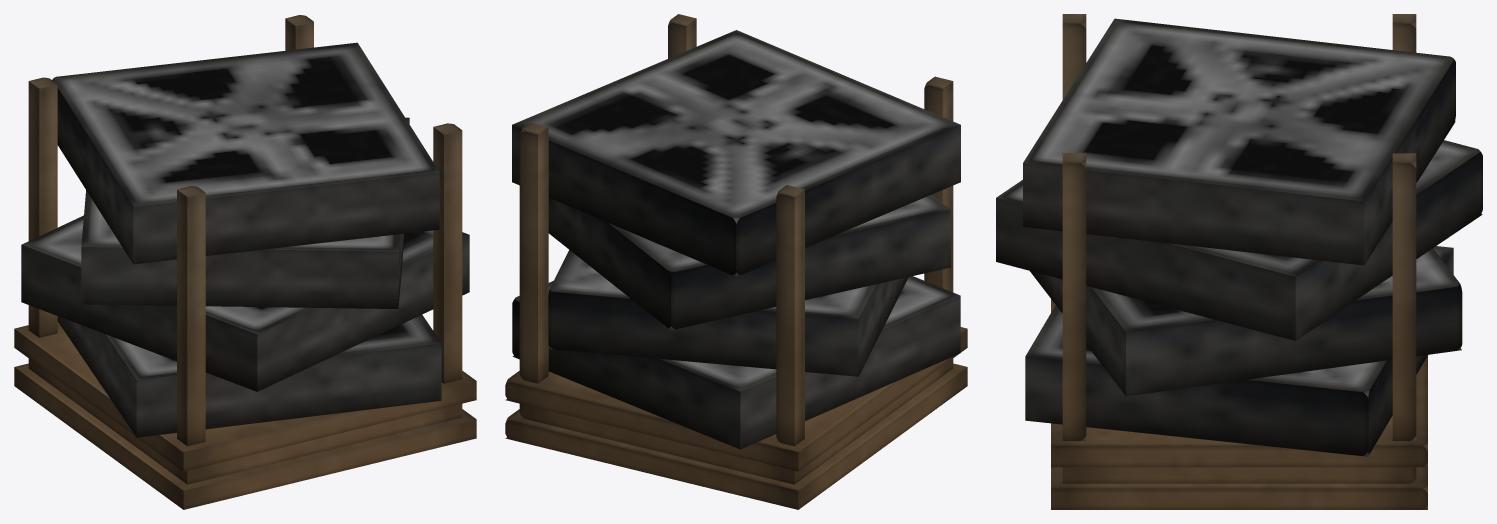
File: tire_stack.obj
3 renders of one model, left to right at view 1: azimuth 30°, elevation 25°; view 2: azimuth 150°, elevation 25°; view 3: azimuth 270°, elevation 25°, orthographic. The views are drawn at different scales.
Parts seen in each view (by area): view 1: nH, nB, nA, nC, nx, nz, nE, nF, ny, nD, nG; view 2: nH, nA, nC, nB, nx, nz, nG, nD, ny, nE, nF; view 3: nH, nC, nB, nA, nz, nx, nF, nG, ny, nE, nD.
Part boxes in pixels (left/top/right/bottom): nH: left=52, top=42, right=439, bottom=264; nB: left=21, top=215, right=469, bottom=391; nA: left=57, top=315, right=441, bottom=437; nC: left=81, top=117, right=409, bottom=308; nx: left=14, top=363, right=476, bottom=509; nz: left=14, top=321, right=476, bottom=471; nE: left=177, top=186, right=205, bottom=446; nF: left=433, top=123, right=462, bottom=383; ny: left=28, top=358, right=462, bottom=484; nD: left=28, top=77, right=57, bottom=337; nG: left=285, top=15, right=313, bottom=50; nH: left=512, top=30, right=960, bottom=276; nA: left=512, top=276, right=960, bottom=449; nC: left=548, top=194, right=950, bottom=330; nB: left=548, top=250, right=908, bottom=376; nx: left=505, top=363, right=967, bottom=509; nz: left=505, top=327, right=967, bottom=471; nG: left=519, top=122, right=548, bottom=383; nD: left=776, top=185, right=804, bottom=446; ny: left=519, top=358, right=953, bottom=484; nE: left=924, top=76, right=953, bottom=292; nF: left=668, top=14, right=696, bottom=58; nH: left=1023, top=18, right=1455, bottom=265; nC: left=996, top=140, right=1482, bottom=340; nB: left=1030, top=248, right=1462, bottom=396; nA: left=1025, top=246, right=1453, bottom=456; nz: left=1051, top=299, right=1427, bottom=467; nx: left=1051, top=467, right=1427, bottom=509; nF: left=1062, top=153, right=1086, bottom=440; nG: left=1392, top=153, right=1416, bottom=440; ny: left=1062, top=467, right=1416, bottom=483; nE: left=1062, top=14, right=1086, bottom=99; nD: left=1392, top=14, right=1416, bottom=52.
Bounding box in the file's own units: 1.29 × 1 × 1.29.
Materials: 1 (1 with a texture image).
